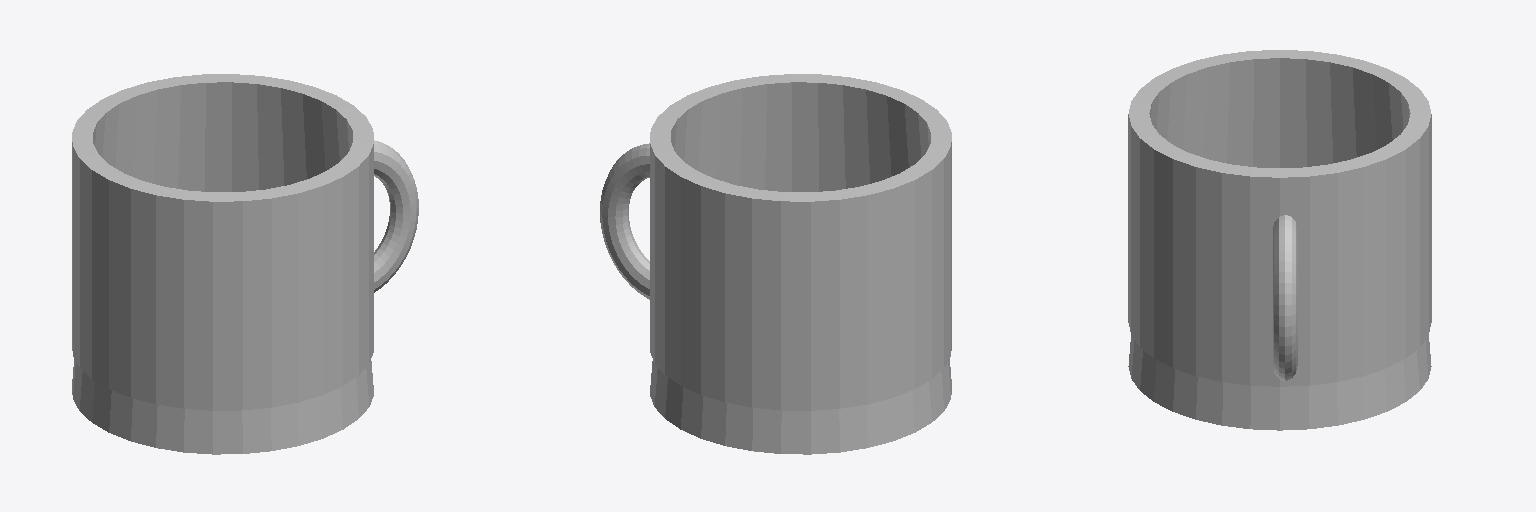
File: cup2.obj
3 renders of one model, left to right at view 1: azimuth 30°, elevation 25°; view 2: azimuth 150°, elevation 25°; view 3: azimuth 270°, elevation 25°, orthographic.
Parts seen in each view (by area): view 1: Cylinder.026; view 2: Cylinder.026; view 3: Cylinder.026.
Part boxes in pixels (left/top/right/bottom): Cylinder.026: left=72, top=74, right=418, bottom=454; Cylinder.026: left=600, top=74, right=951, bottom=454; Cylinder.026: left=1128, top=50, right=1431, bottom=430.
Bounding box in the file's own units: 0.3753 × 0.2767 × 0.3.